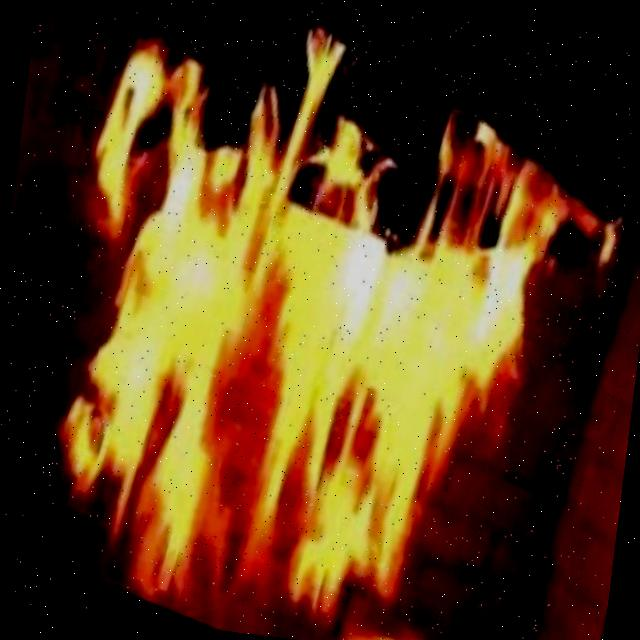fire: (54, 60, 578, 640)
